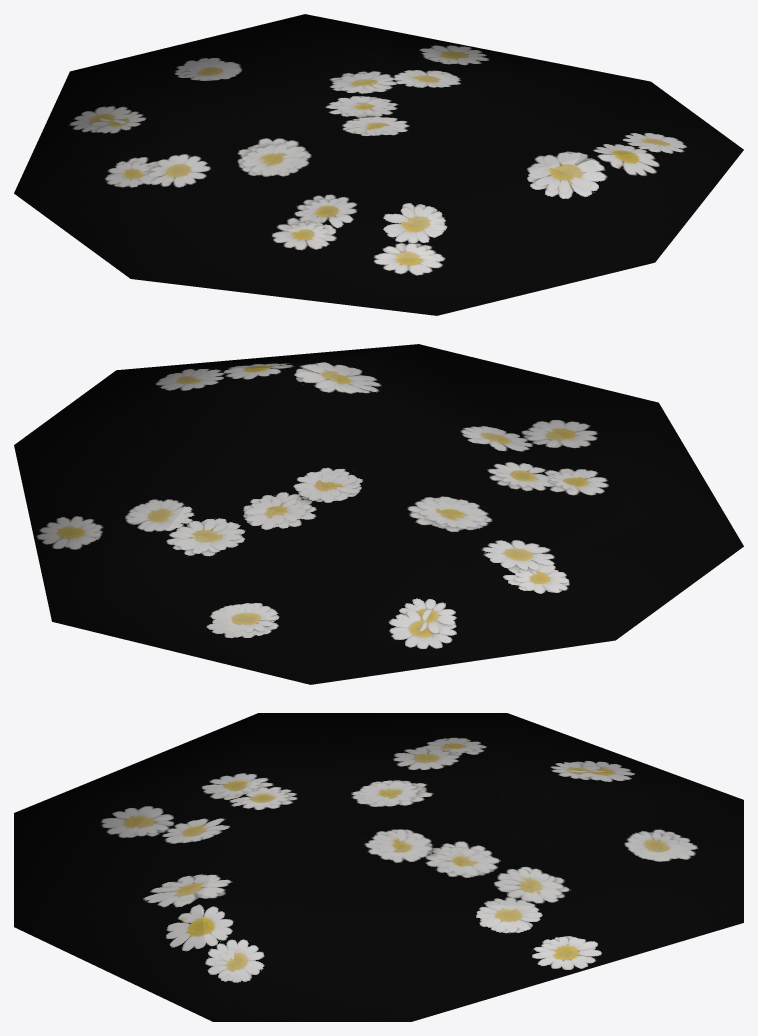
File: flowers.fbx
3 views of the same model, one above another, from view 1: azimuth 30°, elevation 25°; view 2: azimuth 150°, elevation 25°; view 3: azimuth 270°, elevation 25° (orthographic). The views are drawn at different scales.
Visible parts, largest first — view 1: Flowers-01; view 2: Flowers-01; view 3: Flowers-01.
Part boxes in pixels (x1,y1,x2,y2): Flowers-01: [14, 14, 743, 315]; Flowers-01: [14, 344, 743, 684]; Flowers-01: [14, 713, 743, 1021].
Bounding box in the file's own units: 161 × 9.72 × 161.
